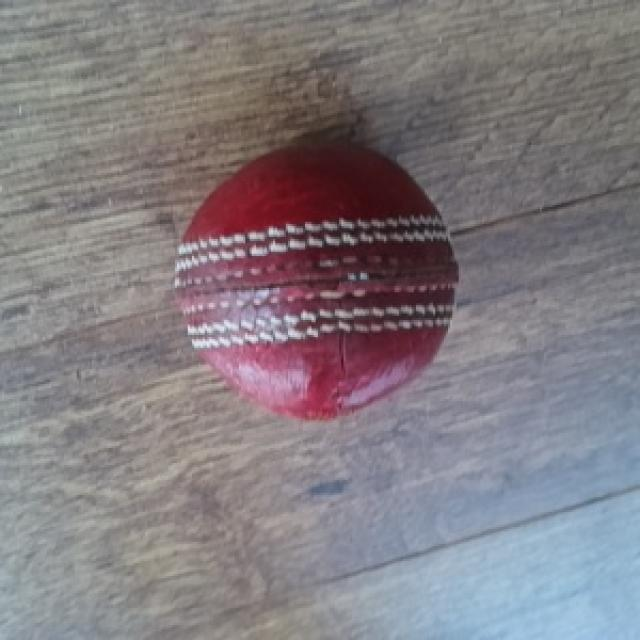ball: (167, 138, 459, 426)
